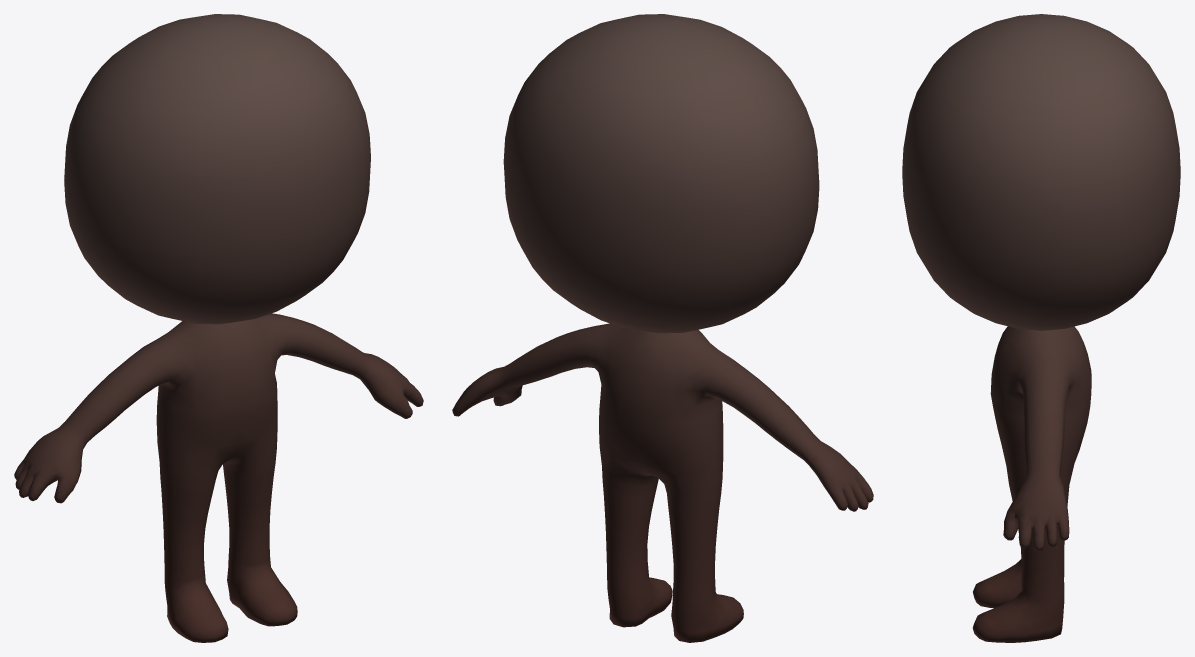
File: Body_13.glb
The picture shows the model from 3 angles, left to right: view 1: azimuth 30°, elevation 25°; view 2: azimuth 150°, elevation 25°; view 3: azimuth 270°, elevation 25°; orthographic projection. The views are drawn at different scales.
Visible parts, largest first — view 1: Body_13; view 2: Body_13; view 3: Body_13.
Part boxes in pixels (left/top/right/bottom): Body_13: left=14, top=14, right=423, bottom=642; Body_13: left=452, top=14, right=873, bottom=642; Body_13: left=902, top=14, right=1180, bottom=642.
Size of the model in its own units: 0.828 by 1.15 by 0.4965.
Materials: 1 (1 with a texture image).
